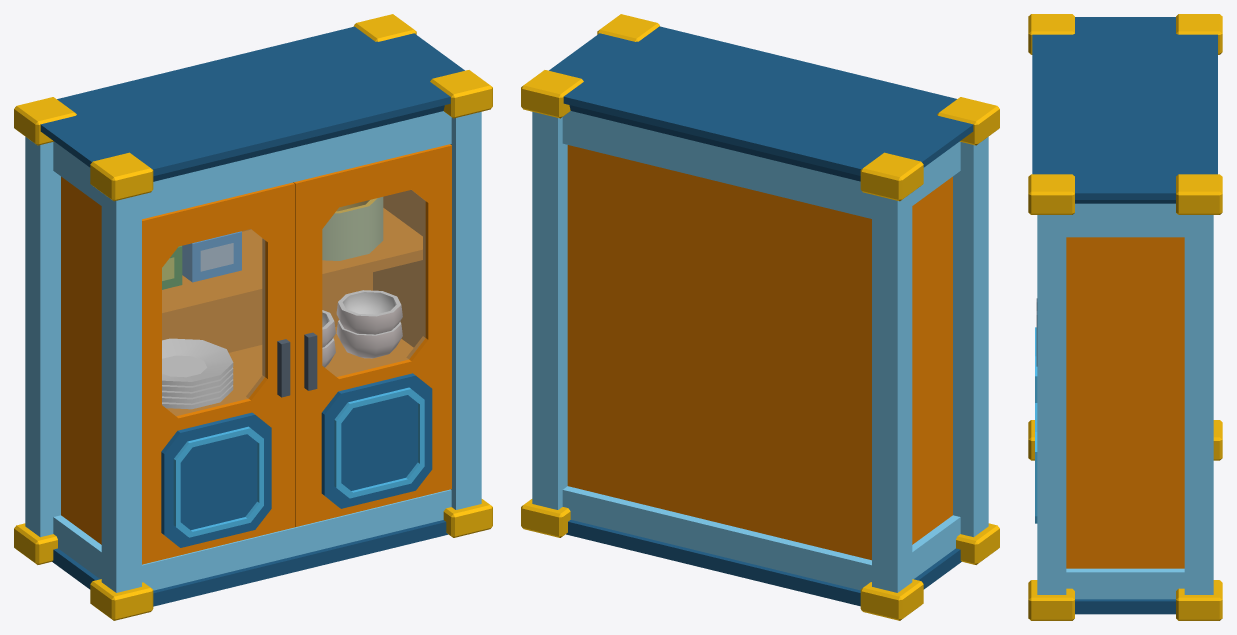
File: Tu_bep.fbx
3 renders of one model, left to right at view 1: azimuth 30°, elevation 25°; view 2: azimuth 150°, elevation 25°; view 3: azimuth 270°, elevation 25°, orthographic. The views are drawn at different scales.
Parts seen in each view (by area): view 1: Tu_bep; view 2: Tu_bep; view 3: Tu_bep.
Part boxes in pixels (left/top/right/bottom): Tu_bep: left=14, top=14, right=492, bottom=620; Tu_bep: left=521, top=14, right=999, bottom=620; Tu_bep: left=1028, top=14, right=1222, bottom=620.
Size of the model in its own units: 294 by 327 by 134.
